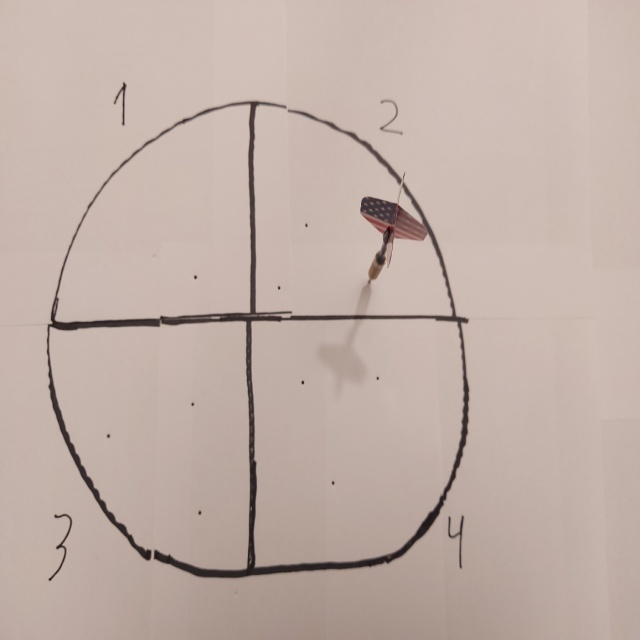Dart: (355, 165, 433, 296)
